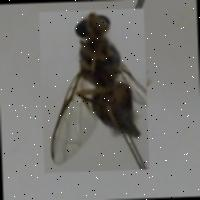Oriental-fruit-fly: (38, 7, 150, 172)
